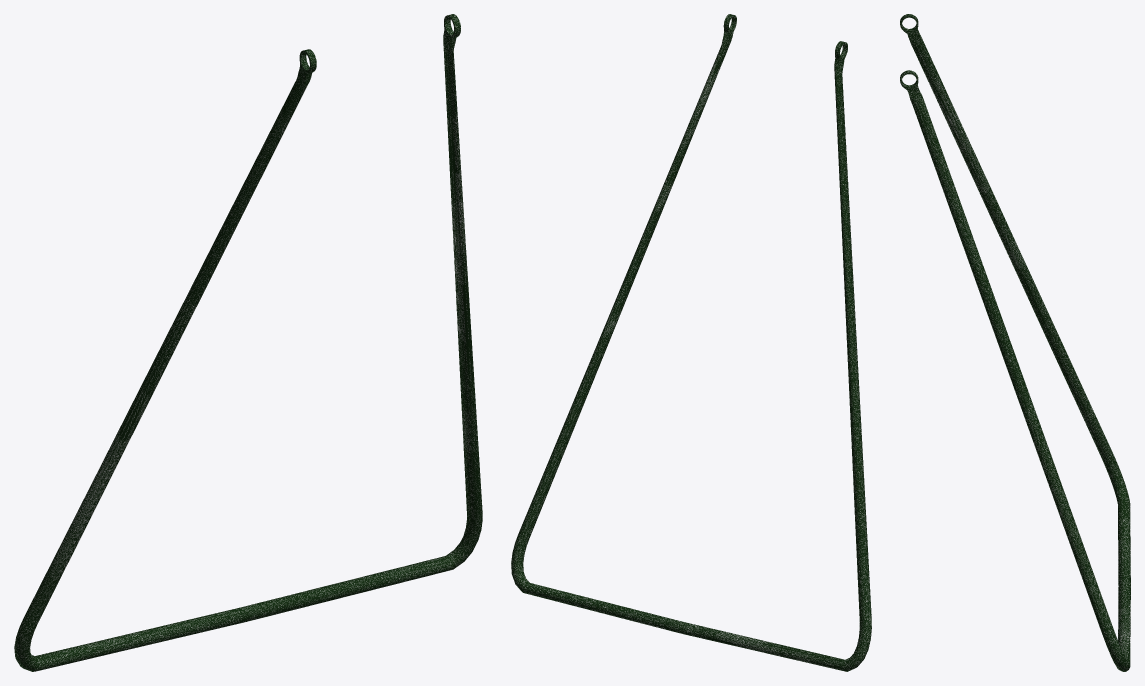
The model's file is original-9.obj.
3 views of the same model, side by side, from view 1: azimuth 30°, elevation 25°; view 2: azimuth 150°, elevation 25°; view 3: azimuth 270°, elevation 25° (orthographic). The views are drawn at different scales.
Parts seen in each view (by area): view 1: pé01_1/pé01/mesh9/mesh9-geometry#mesh9-geometry; view 2: pé01_1/pé01/mesh9/mesh9-geometry#mesh9-geometry; view 3: pé01_1/pé01/mesh9/mesh9-geometry#mesh9-geometry.
Part boxes in pixels (x1,y1,x2,y2): pé01_1/pé01/mesh9/mesh9-geometry#mesh9-geometry: (14, 14, 482, 671); pé01_1/pé01/mesh9/mesh9-geometry#mesh9-geometry: (511, 14, 871, 671); pé01_1/pé01/mesh9/mesh9-geometry#mesh9-geometry: (900, 14, 1130, 671).
Bounding box in the file's own units: 0.4427 × 0.6265 × 0.2383.
